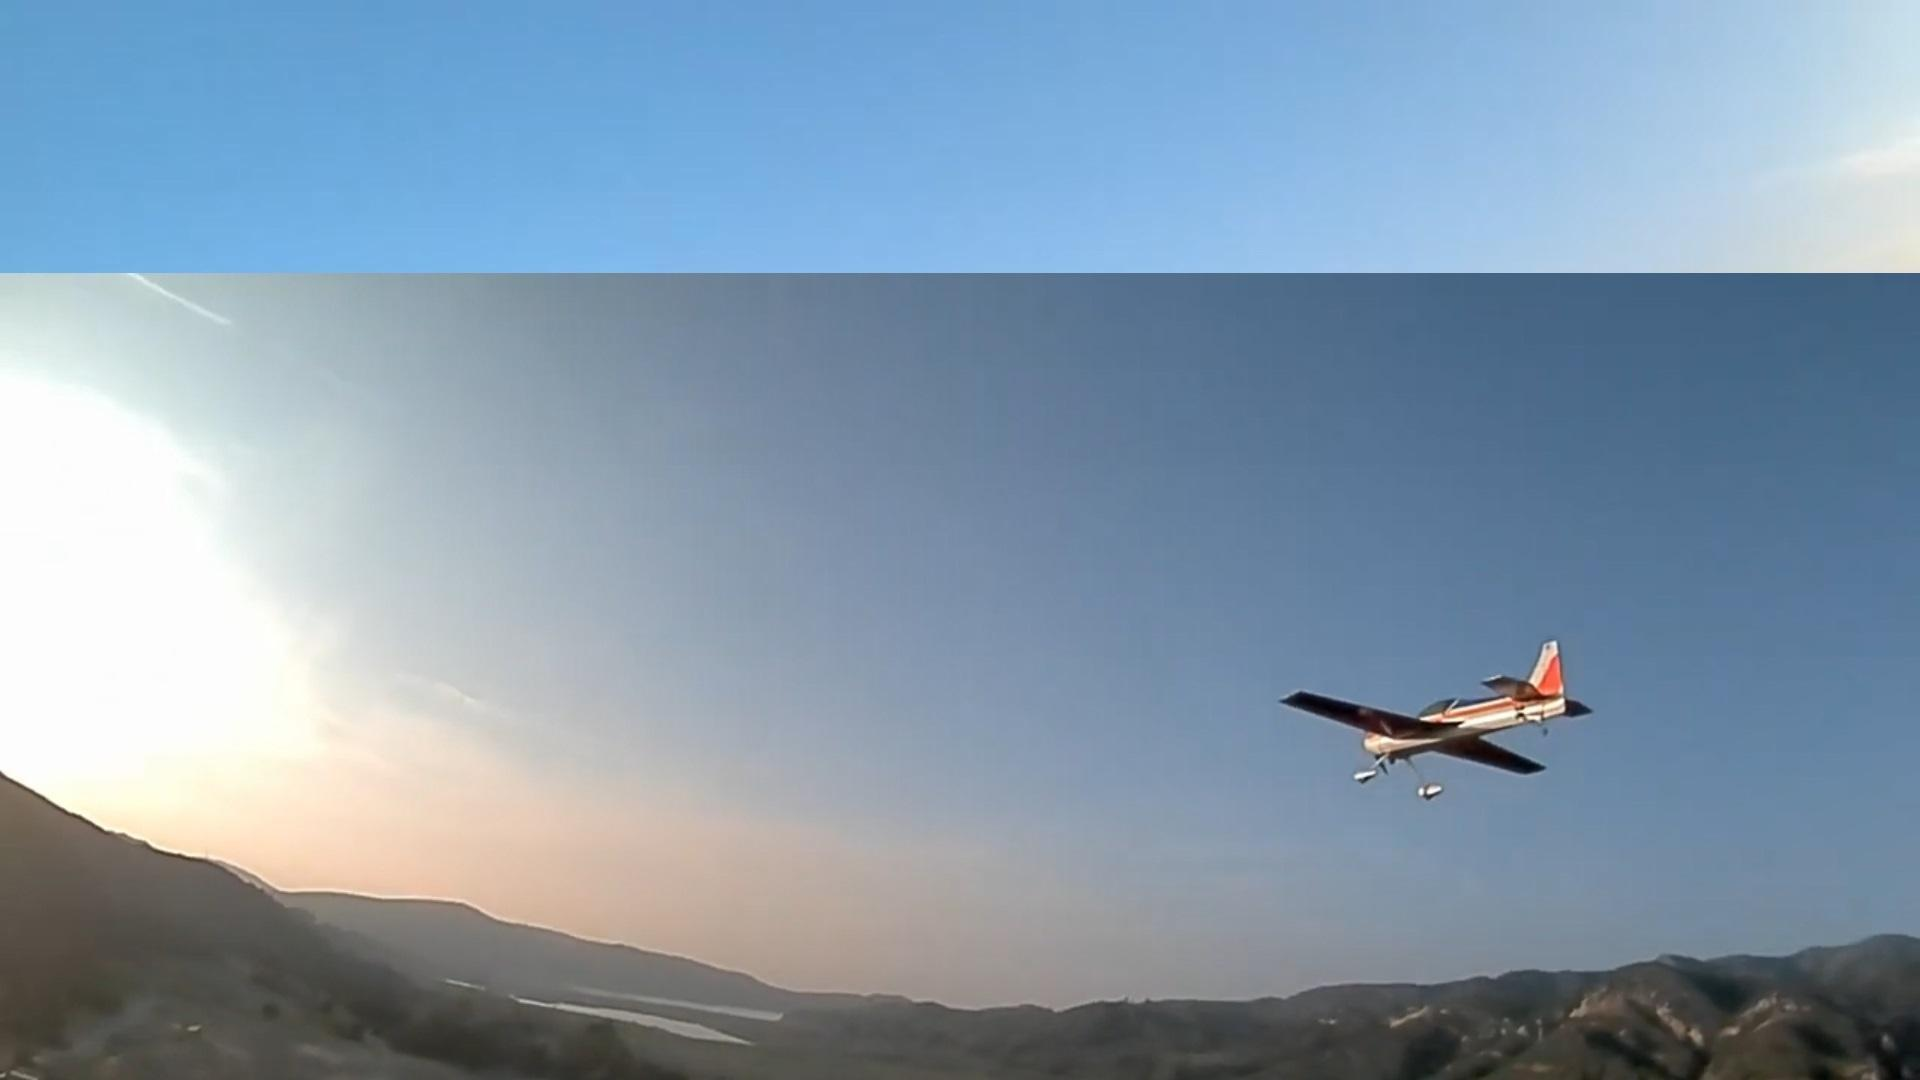Airplane: (1271, 636, 1600, 806)
